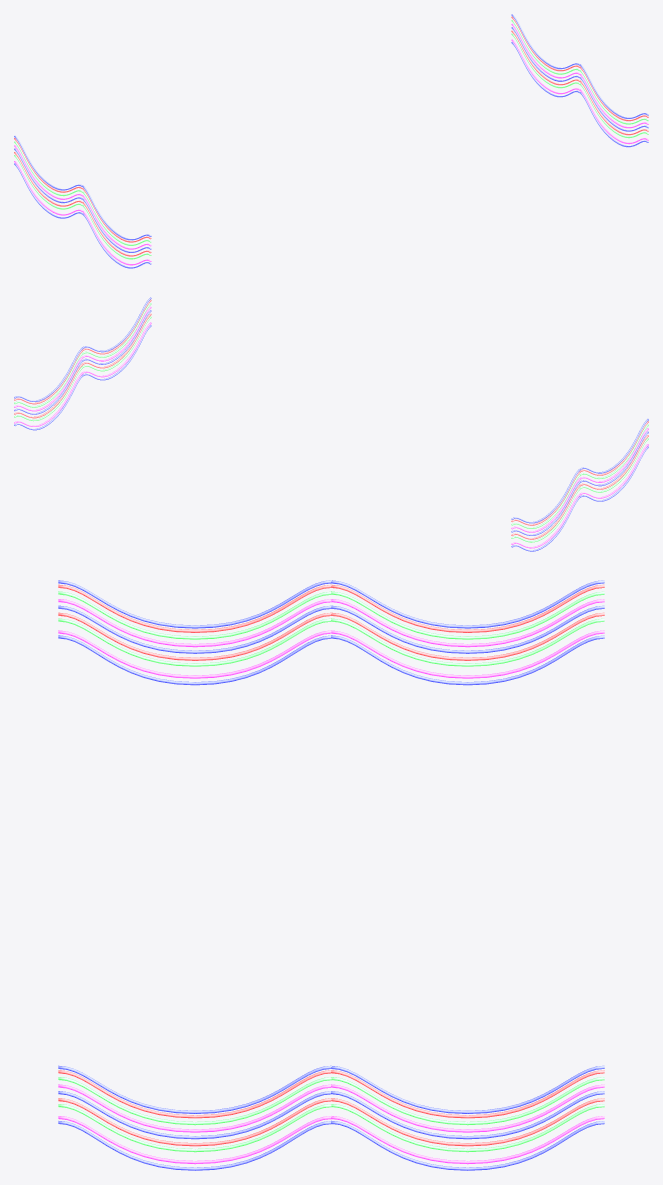
File: Cable_Lights.glb
The picture shows the model from 3 angles, top to bottom: view 1: azimuth 30°, elevation 25°; view 2: azimuth 150°, elevation 25°; view 3: azimuth 270°, elevation 25°; orthographic projection. The views are drawn at different scales.
Visible parts, largest first — view 1: Cable Lights; view 2: Cable Lights; view 3: Cable Lights.
Part boxes in pixels (x1=…): Cable Lights: x1=14, y1=14, x2=648, y2=268; Cable Lights: x1=14, y1=297, x2=648, y2=551; Cable Lights: x1=58, y1=580, x2=604, y2=1170.
Size of the model in its own units: 23.4 by 2.34 by 11.1.
